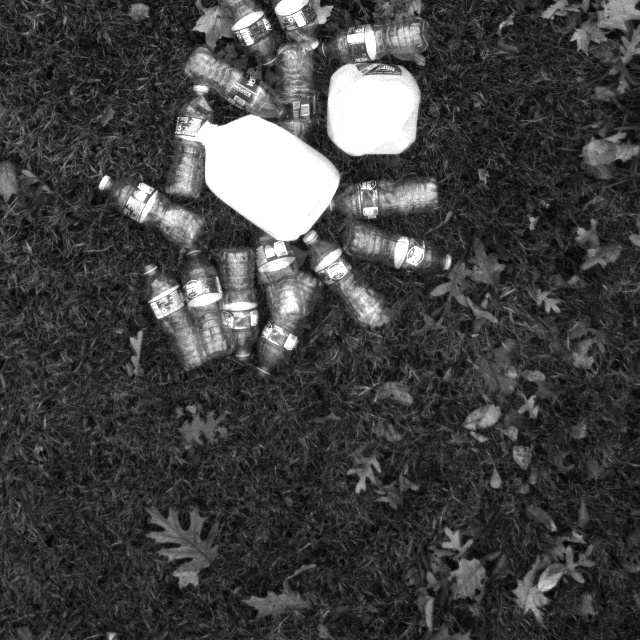bottle: (99, 170, 202, 257), (249, 273, 330, 382), (178, 49, 295, 116), (159, 87, 219, 207), (328, 11, 438, 75), (312, 249, 404, 325), (340, 169, 449, 233), (218, 245, 269, 375), (140, 268, 204, 368), (200, 0, 287, 71), (183, 253, 237, 361), (243, 230, 307, 318), (274, 40, 328, 142), (335, 223, 457, 268)
can: (195, 113, 345, 245), (323, 61, 431, 157)
